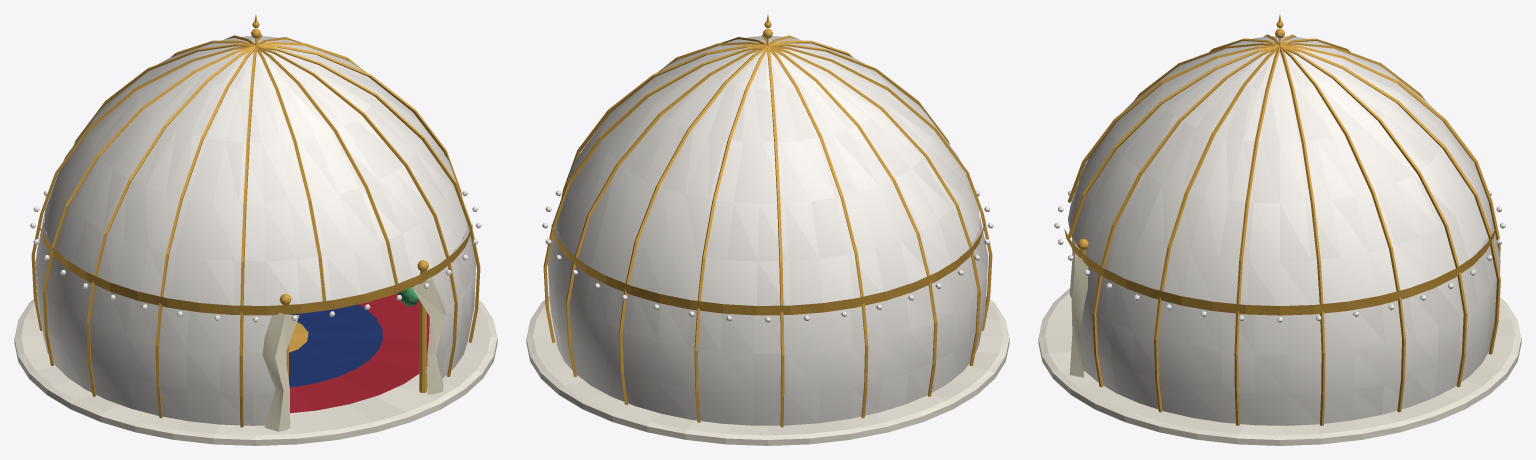
Rendered from ZB_yapi_inci_cadir.glb.
3 renders of one model, left to right at view 1: azimuth 30°, elevation 25°; view 2: azimuth 150°, elevation 25°; view 3: azimuth 270°, elevation 25°, orthographic.
Parts seen in each view (by area): view 1: ZB_yapi_inci_cadir; view 2: ZB_yapi_inci_cadir; view 3: ZB_yapi_inci_cadir.
Boxes of the visible parts, left/top/right/bottom form: ZB_yapi_inci_cadir: left=14, top=15, right=497, bottom=445; ZB_yapi_inci_cadir: left=526, top=15, right=1009, bottom=445; ZB_yapi_inci_cadir: left=1038, top=15, right=1521, bottom=445.
Size of the model in its own units: 14.8 by 11.15 by 14.8.
